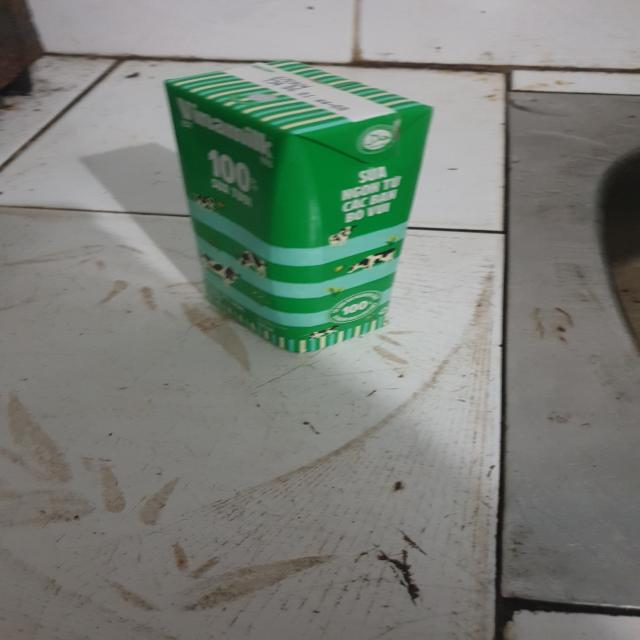Vina: (161, 57, 442, 358)
